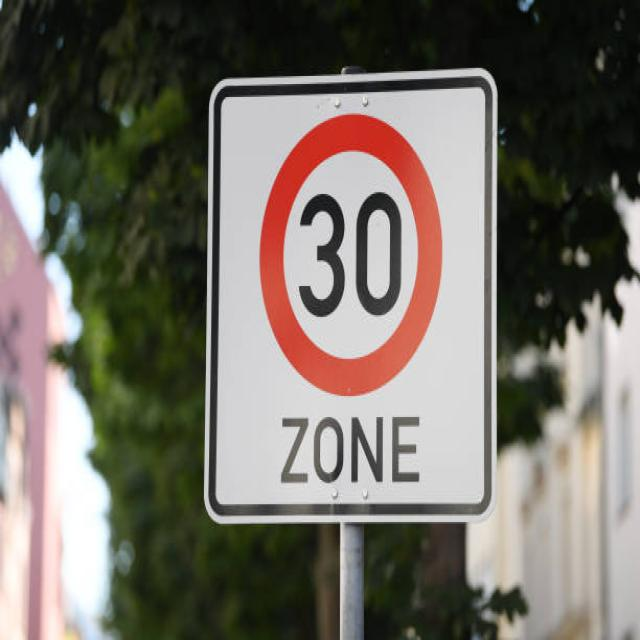Speed limit 30: (259, 111, 445, 398)
